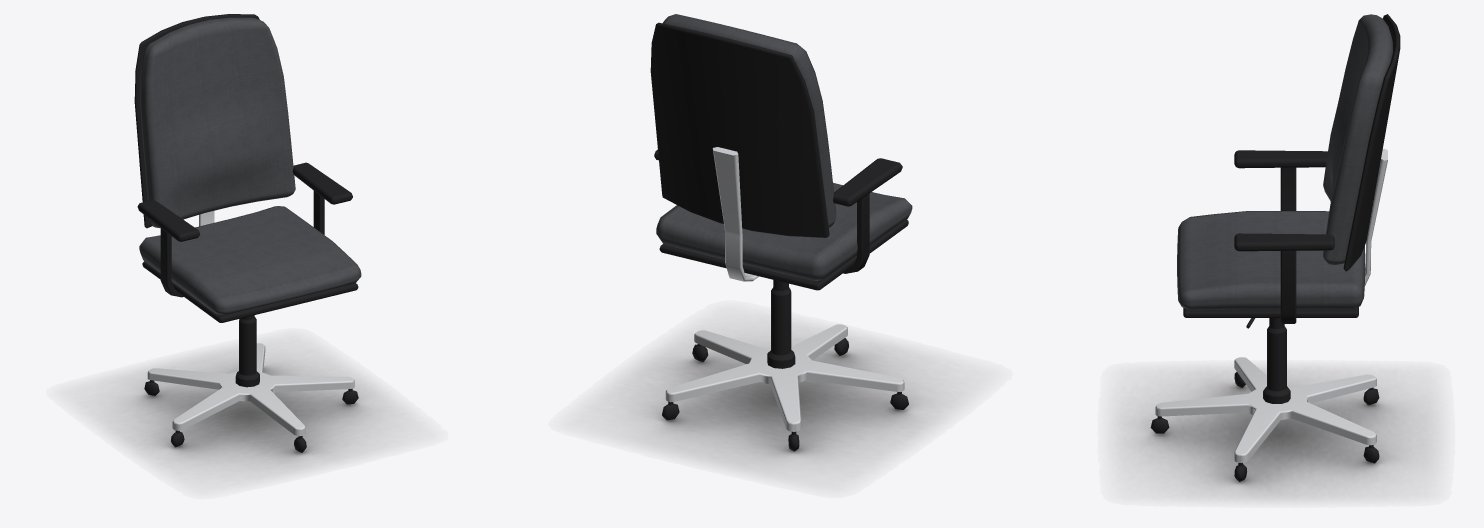
Rendered from office_chair.glb.
3 views of the same model, side by side, from view 1: azimuth 30°, elevation 25°; view 2: azimuth 150°, elevation 25°; view 3: azimuth 270°, elevation 25° (orthographic). The views are drawn at different scales.
Visible parts, largest first — view 1: office_chair_LOD0, office_chair_Shadow; view 2: office_chair_LOD0, office_chair_Shadow; view 3: office_chair_LOD0, office_chair_Shadow.
Part boxes in pixels (<box>): office_chair_LOD0: <box>134,14,361,452</box>; office_chair_Shadow: <box>105,352,393,472</box>; office_chair_LOD0: <box>650,14,912,451</box>; office_chair_Shadow: <box>616,332,946,470</box>; office_chair_LOD0: <box>1150,14,1400,481</box>; office_chair_Shadow: <box>1122,369,1429,497</box>.
Size of what is drawn, in the model's own units: 0.9827 by 1.14 by 1.01.
4 materials, 2 textured.
